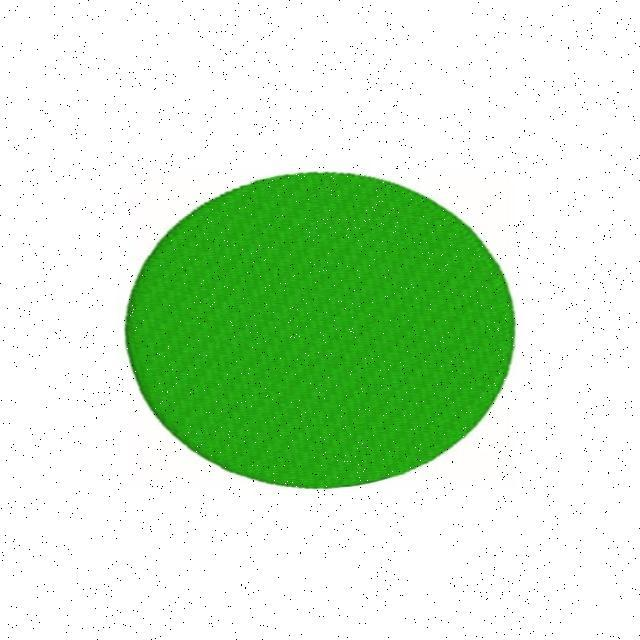Circle: (120, 153, 542, 502)
